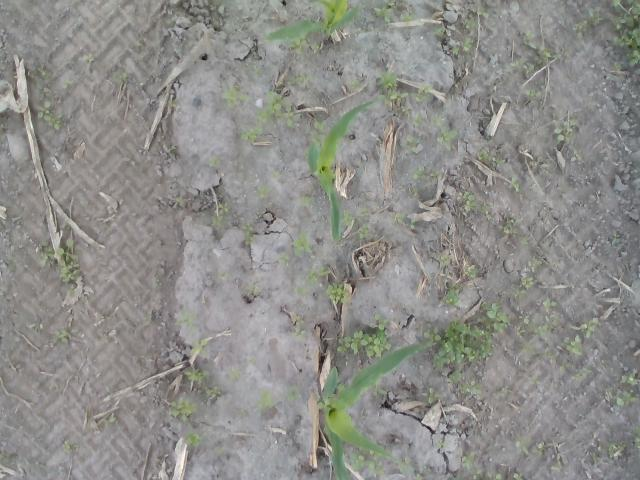Maize: (323, 340, 433, 480), (308, 100, 379, 242), (264, 0, 359, 42)
Weeds: (424, 302, 512, 367), (334, 314, 392, 360), (610, 0, 640, 76), (255, 91, 308, 129), (36, 238, 81, 282), (514, 296, 562, 337), (605, 368, 640, 408), (342, 447, 386, 476), (522, 29, 558, 63), (448, 370, 488, 400), (31, 97, 66, 130), (375, 70, 408, 102), (573, 7, 605, 39), (431, 115, 458, 151), (458, 192, 492, 220), (374, 0, 416, 22), (168, 398, 200, 424), (553, 334, 584, 360), (514, 430, 544, 456), (222, 82, 252, 107), (175, 304, 198, 336), (520, 255, 542, 288), (288, 34, 320, 56), (461, 448, 483, 480), (288, 230, 314, 256), (552, 118, 576, 145), (409, 166, 445, 184), (572, 316, 600, 338), (325, 283, 354, 304), (510, 57, 538, 78), (253, 389, 280, 410), (285, 72, 320, 88), (408, 82, 433, 104), (306, 264, 330, 286), (211, 200, 229, 228), (22, 63, 50, 80), (446, 280, 464, 306), (49, 328, 72, 348), (309, 118, 326, 145), (498, 216, 518, 238), (183, 368, 210, 384), (184, 431, 208, 449), (606, 440, 627, 460), (190, 337, 210, 357), (424, 384, 442, 406), (240, 126, 264, 142), (503, 175, 524, 193), (398, 455, 416, 476), (240, 222, 255, 246), (409, 110, 428, 128), (254, 182, 274, 199), (292, 314, 306, 338), (494, 384, 514, 400), (572, 367, 592, 383), (296, 194, 322, 206), (160, 142, 178, 159), (288, 384, 304, 402), (558, 360, 576, 376), (247, 63, 263, 81), (462, 34, 480, 50), (510, 284, 528, 300), (629, 423, 640, 449), (205, 384, 222, 400), (356, 222, 370, 241), (340, 207, 354, 226), (515, 342, 537, 354), (462, 17, 482, 30), (226, 366, 242, 382), (246, 282, 262, 298), (277, 250, 291, 268), (404, 134, 418, 152), (478, 5, 497, 18), (364, 16, 378, 33), (208, 156, 225, 170), (569, 144, 582, 162), (370, 384, 388, 397), (28, 322, 45, 335), (464, 264, 479, 278), (524, 86, 542, 97), (288, 286, 306, 297), (354, 0, 369, 13), (390, 213, 406, 225), (486, 470, 504, 480), (403, 218, 418, 230), (357, 206, 372, 218), (430, 10, 446, 21), (112, 70, 128, 81), (434, 24, 446, 38), (82, 52, 96, 64), (478, 148, 490, 162), (528, 375, 544, 385), (217, 271, 233, 281), (399, 104, 412, 116), (316, 398, 330, 409), (434, 438, 449, 448), (104, 415, 120, 424), (62, 440, 74, 452), (511, 470, 525, 480), (351, 78, 362, 90), (451, 46, 462, 58), (334, 383, 346, 394), (40, 88, 52, 98), (451, 472, 466, 480), (440, 255, 450, 267), (543, 350, 557, 358), (142, 318, 153, 328), (246, 356, 258, 365), (174, 196, 184, 206), (63, 78, 73, 88), (590, 452, 600, 462), (550, 463, 561, 472), (495, 158, 506, 167), (518, 238, 530, 246), (236, 407, 246, 416), (414, 473, 424, 480), (270, 170, 281, 176), (168, 99, 176, 107)
